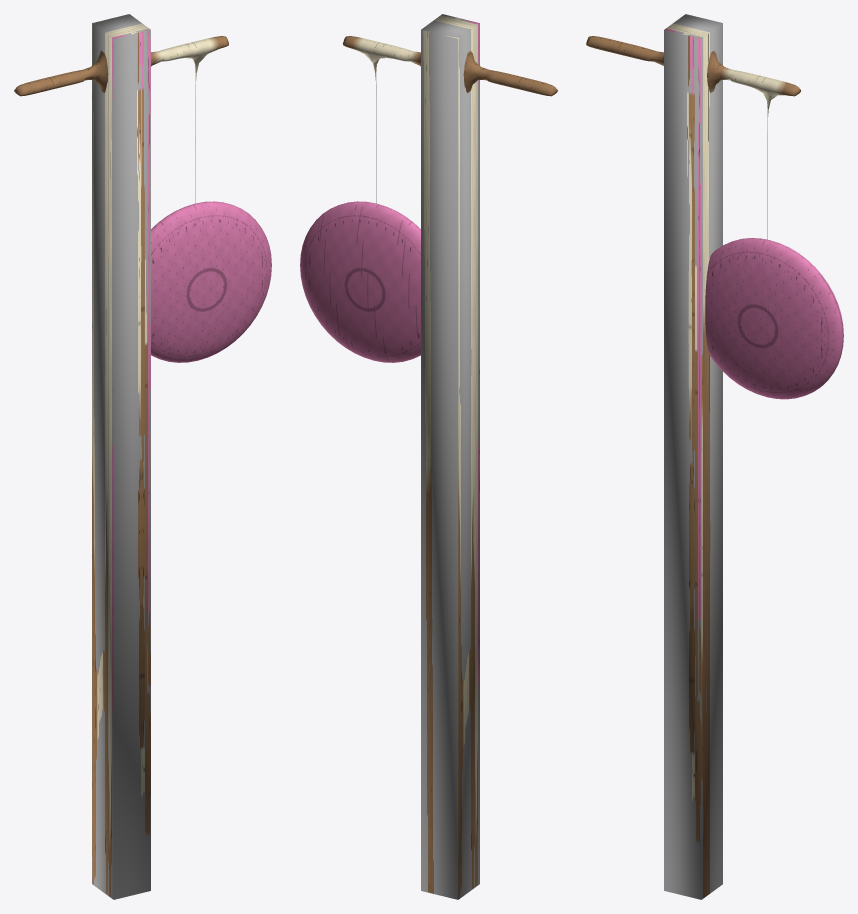
File: landmark_yoyo.glb
The picture shows the model from 3 angles, left to right: view 1: azimuth 30°, elevation 25°; view 2: azimuth 150°, elevation 25°; view 3: azimuth 330°, elevation 25°; orthographic projection.
Visible parts, largest first — view 1: col, yoyo, lod0; view 2: col, yoyo, lod0; view 3: col, yoyo, lod0.
Boxes of the visible parts, <box> form: col: <box>92,14,150,899</box>; yoyo: <box>151,201,271,362</box>; lod0: <box>14,36,228,203</box>; col: <box>421,14,479,899</box>; yoyo: <box>300,201,420,362</box>; lod0: <box>343,36,557,203</box>; col: <box>664,14,722,899</box>; yoyo: <box>705,238,843,399</box>; lod0: <box>586,36,800,239</box>.
Size of what is drawn, in the model's own units: 6.81 by 22 by 1.
1 material, 1 textured.
